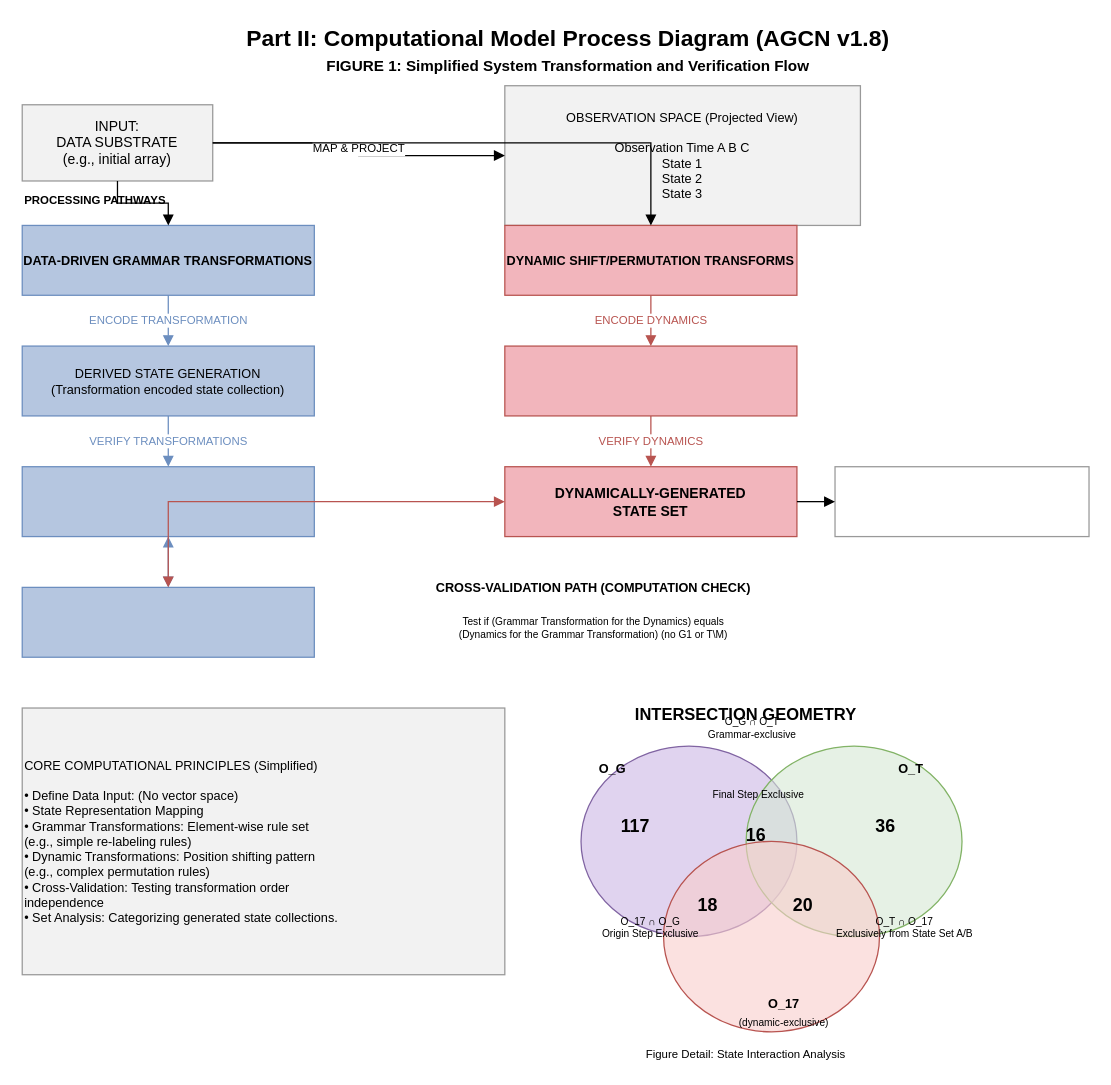
This 1111x1085 diagram has some shape labels left out. The box of each missing label's shape, as (x1, y1, x2, y2) in pixels:
DYNAMICALLY-GENERATED STATES (Dynamics encoded state collection): (504, 345, 797, 416)
EMPIRICAL STATUS: (Pending Verification): (834, 465, 1089, 537)
GRAMMAR INTERSECTION STATE SET: (21, 465, 314, 537)
PREDICTED INTERSECTION: (21, 586, 314, 657)
